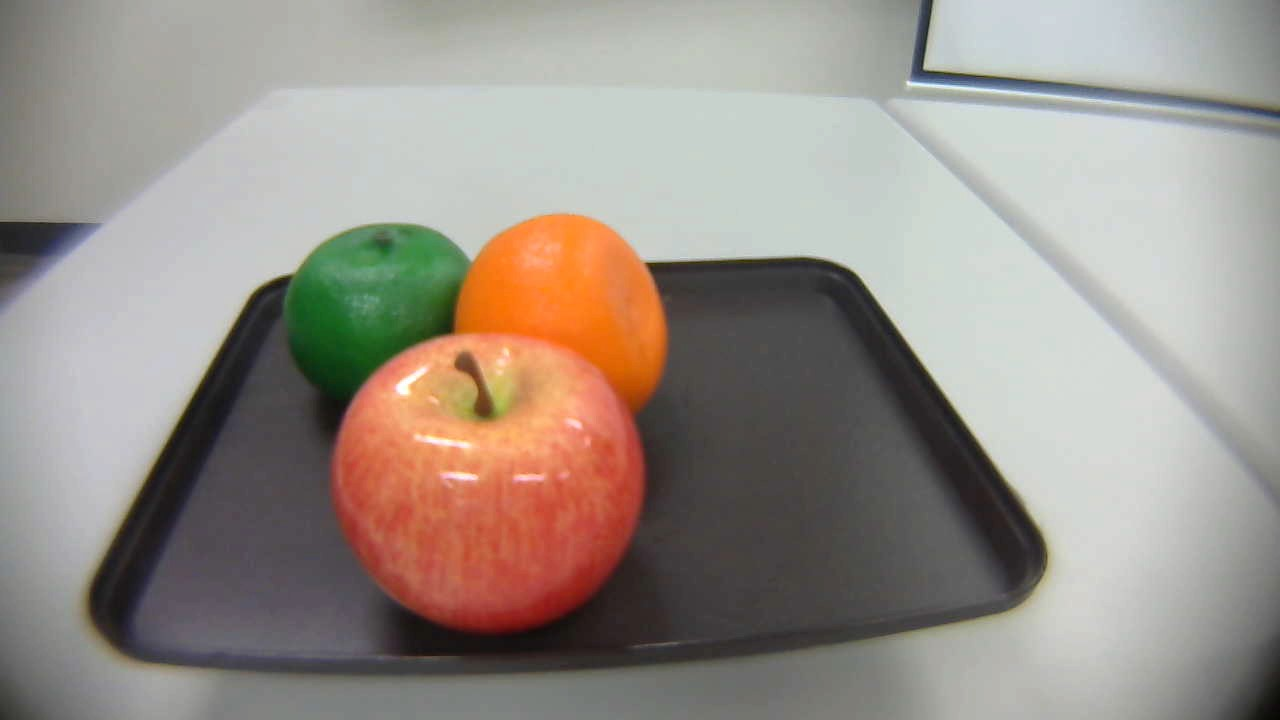green orange: (273, 216, 494, 401)
orange: (436, 211, 667, 424)
red apple: (328, 334, 651, 634)
